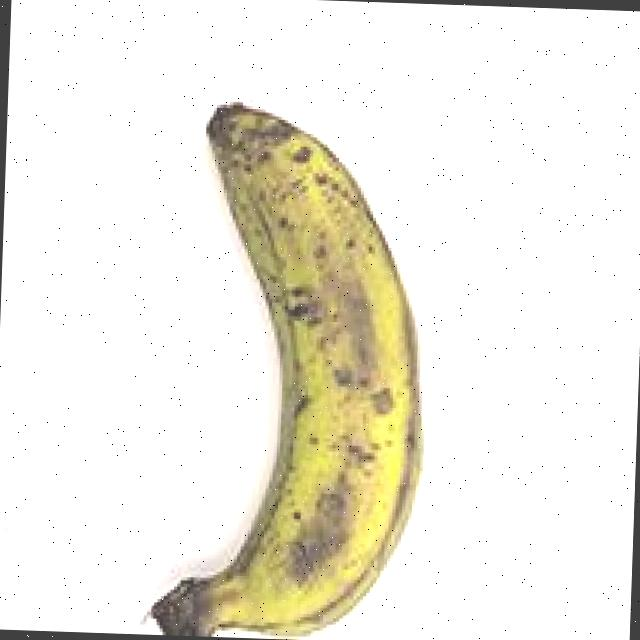Overripe: (109, 71, 468, 640)
